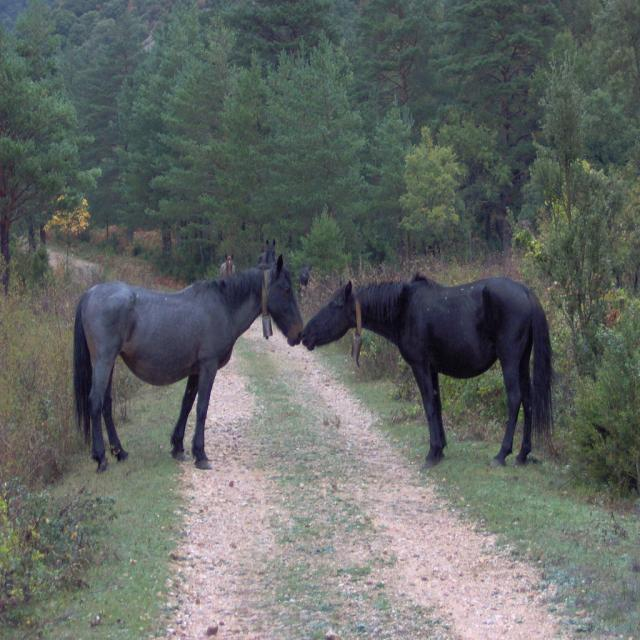Horse: (72, 255, 308, 478), (298, 269, 555, 471)
